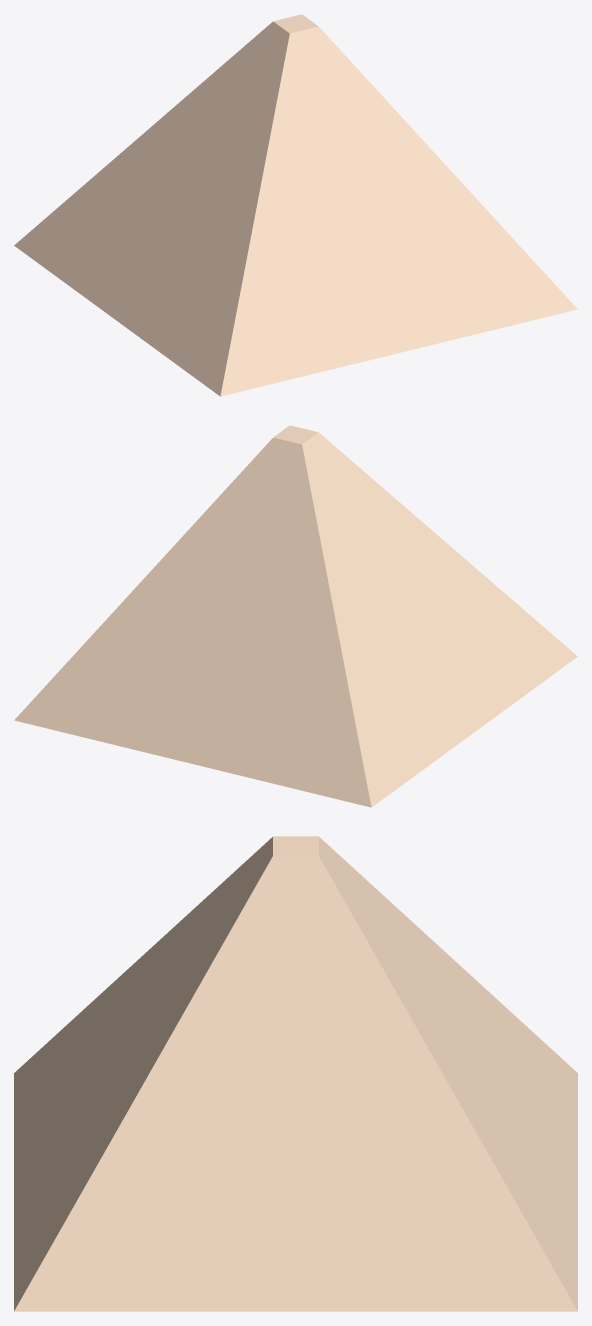
The model's file is Abstract_Castle_Block_TempleTopSmall_Cream_03.fbx.
The picture shows the model from 3 angles, top to bottom: view 1: azimuth 30°, elevation 25°; view 2: azimuth 150°, elevation 25°; view 3: azimuth 270°, elevation 25°; orthographic projection. The views are drawn at different scales.
Parts seen in each view (by area): view 1: Model; view 2: Model; view 3: Model.
Boxes of the visible parts, x1,y1,x2,y2 form: Model: (14, 14, 577, 396); Model: (14, 425, 577, 807); Model: (14, 836, 577, 1311).
Bounding box in the file's own units: 756 × 512 × 756.
